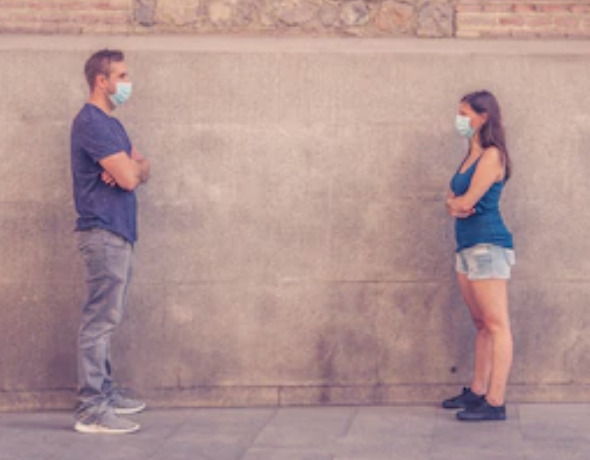Good: (65, 48, 520, 437)
